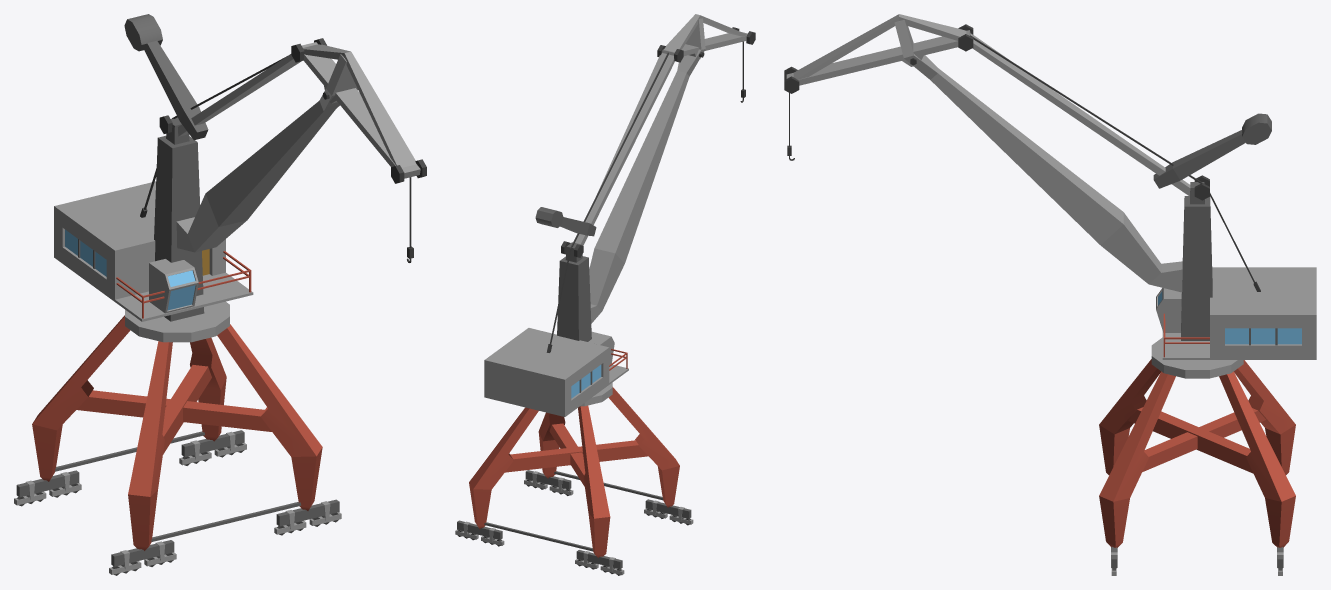
The model's file is Crane_2.fbx.
3 renders of one model, left to right at view 1: azimuth 30°, elevation 25°; view 2: azimuth 150°, elevation 25°; view 3: azimuth 270°, elevation 25°, orthographic. The views are drawn at different scales.
Visible parts, largest first — view 1: Crane_2_Head, Crane_2; view 2: Crane_2_Head, Crane_2; view 3: Crane_2_Head, Crane_2.
Boxes of the visible parts, x1=… form: Crane_2_Head: x1=54, y1=14, x2=426, y2=321; Crane_2: x1=14, y1=301, x2=341, y2=575; Crane_2_Head: x1=484, y1=14, x2=755, y2=416; Crane_2: x1=455, y1=382, x2=693, y2=575; Crane_2_Head: x1=784, y1=14, x2=1316, y2=359; Crane_2: x1=1099, y1=337, x2=1295, y2=575.
Size of the model in its own units: 2.83 by 6.9 by 6.49.
